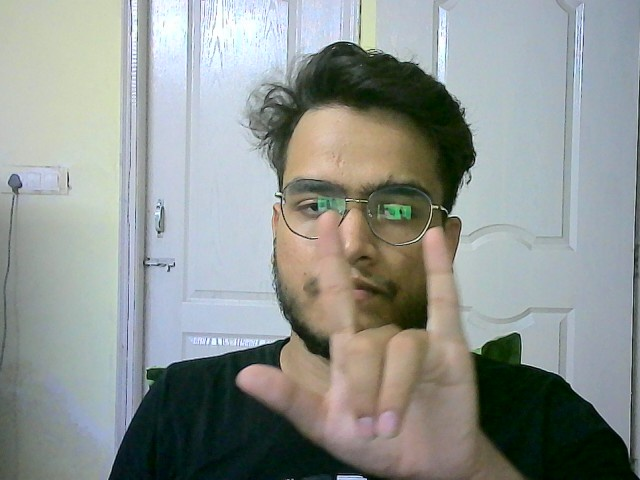I Love You: (244, 205, 501, 478)
